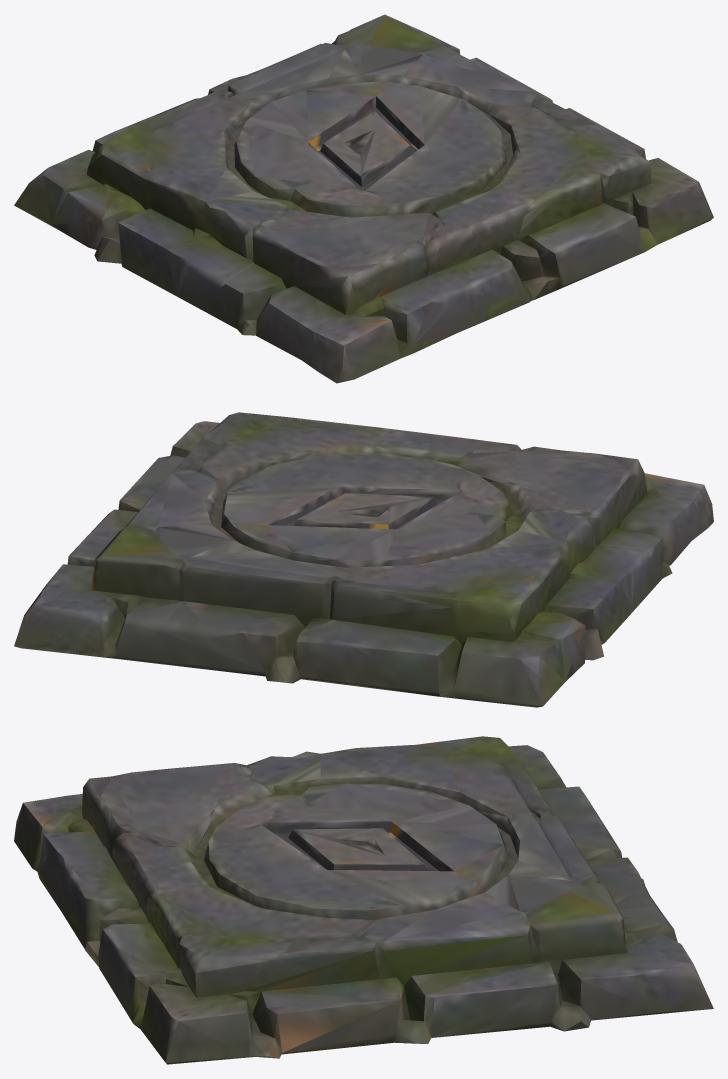
The model's file is placa_presion_cueva_1000.glb.
3 renders of one model, top to bottom at view 1: azimuth 30°, elevation 25°; view 2: azimuth 150°, elevation 25°; view 3: azimuth 270°, elevation 25°, orthographic. The views are drawn at different scales.
Visible parts, largest first — view 1: placa_presion_cueva_malla; view 2: placa_presion_cueva_malla; view 3: placa_presion_cueva_malla.
Boxes of the visible parts, bbox=[...] form: placa_presion_cueva_malla: bbox=[14, 14, 713, 383]; placa_presion_cueva_malla: bbox=[14, 412, 713, 707]; placa_presion_cueva_malla: bbox=[14, 736, 713, 1064].
Size of the model in its own units: 0.472 by 0.0763 by 0.5022.
1 material, 1 textured.
